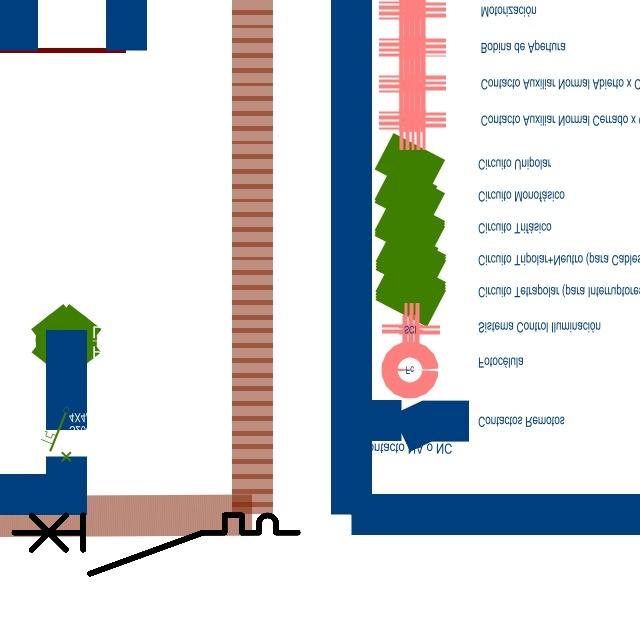interruptor_termomagnetico: (7, 508, 305, 581)
